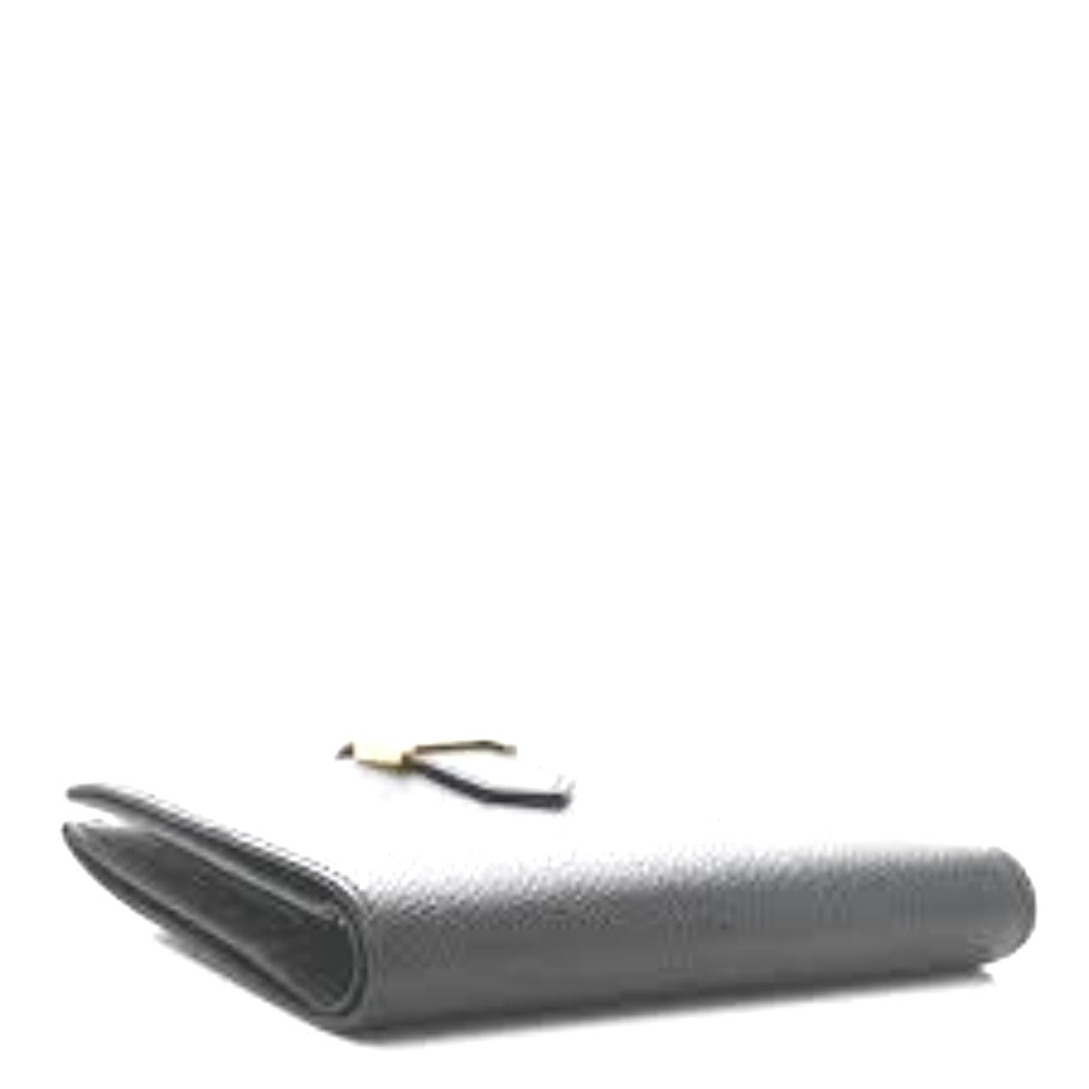wallet: (75, 758, 1067, 1082)
